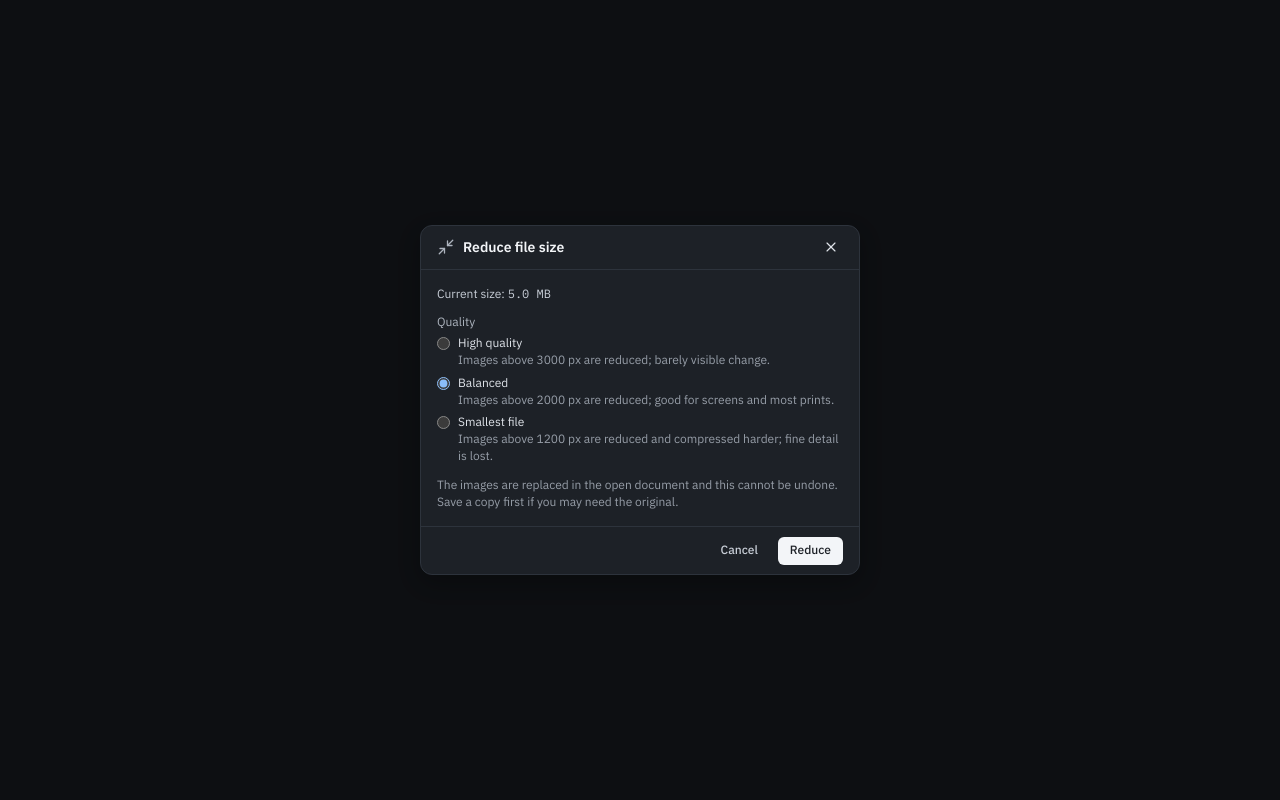
Test case: Diálogo Reduce File Size (ADR-0126) › reducir con la calidad elegida muestra cuánto se ahorró y qué imágenes se dejaron
The width and height of the screenshot is (1280, 800).
Step 1. Click the radio button with test id "reduce-quality-low" → (444, 423), box [437,416,450,429]
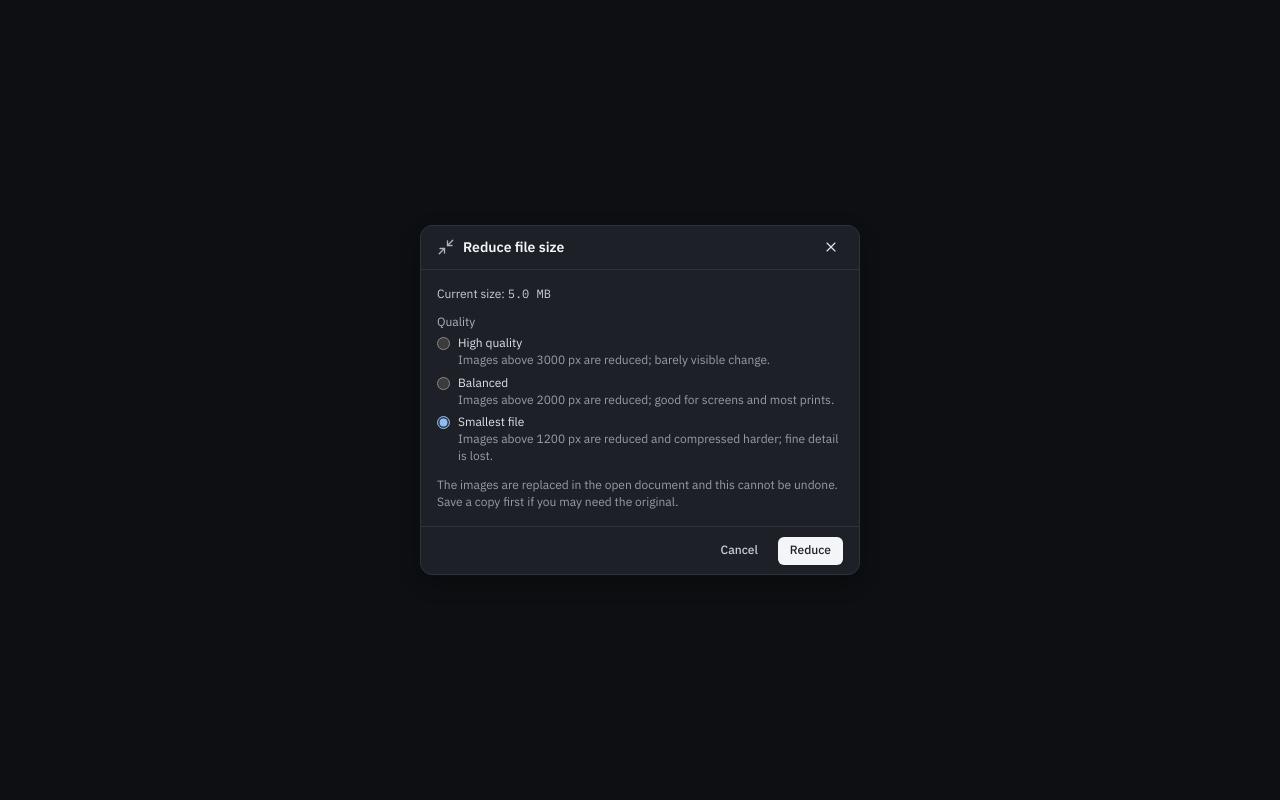
Step 2. Click the button with test id "reduce-apply" → (810, 551), box [778,537,843,565]
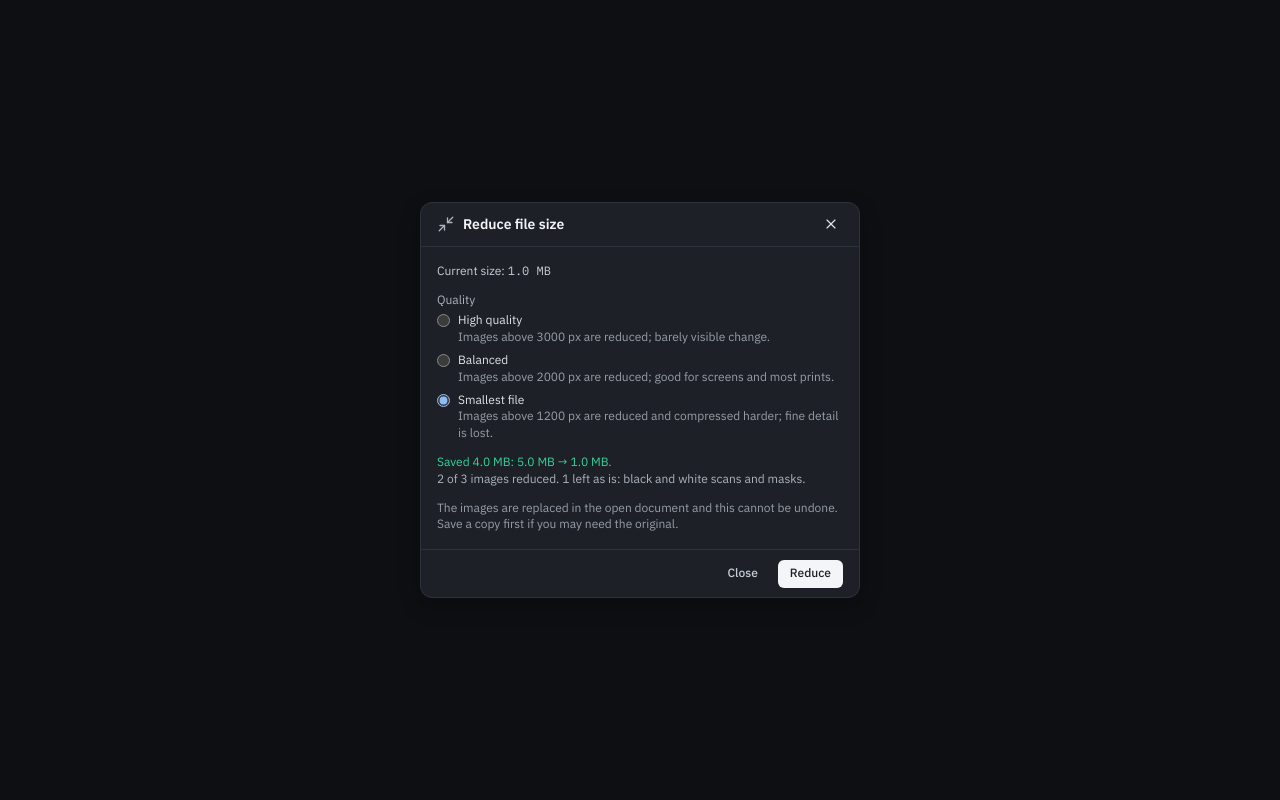
Check: the element with test id "reduce-report" shows "Saved 4.0 MB: 5.0 MB → 1.0 MB.", box [437,454,612,469]
Check: the element with test id "reduce-report" shows "2 of 3 images reduced.", box [437,454,843,488]
Check: the element with test id "reduce-report" shows "1 left as is: black and white scans and masks.", box [559,471,806,486]
